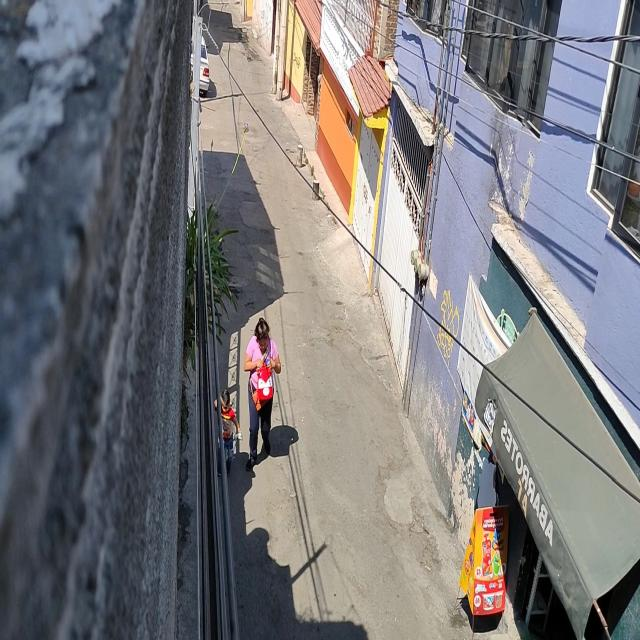adult: (245, 317, 281, 472)
child: (213, 387, 241, 479)
